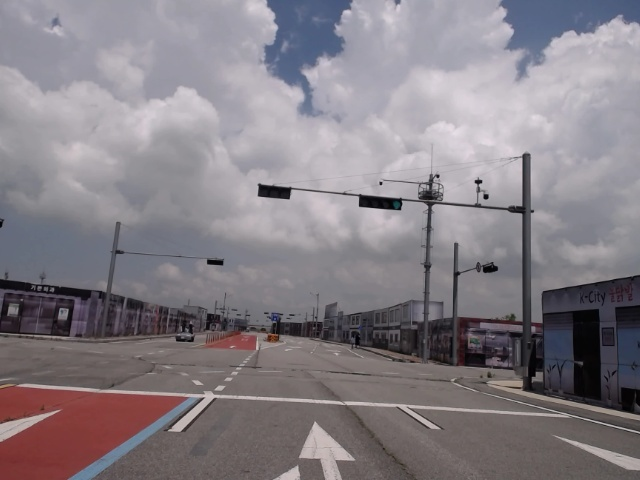straight_green_4: (360, 196, 404, 210)
